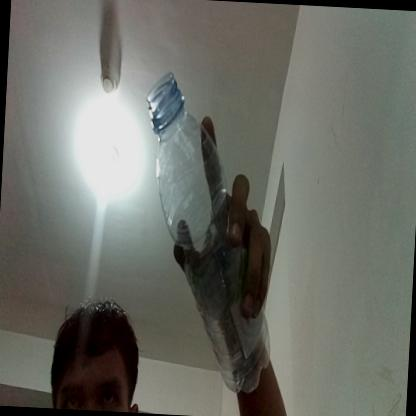plastic_bottles: (132, 72, 284, 392)
